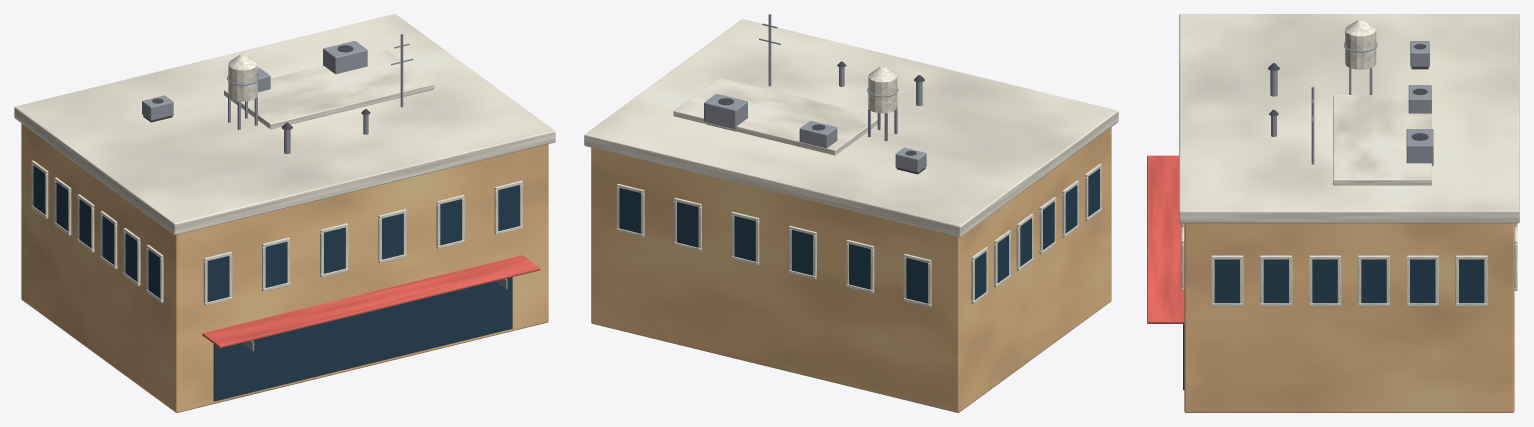
The model's file is bldg_apricot_motel.glb.
3 renders of one model, left to right at view 1: azimuth 30°, elevation 25°; view 2: azimuth 150°, elevation 25°; view 3: azimuth 270°, elevation 25°, orthographic. The views are drawn at different scales.
Visible parts, largest first — view 1: bldg_apricot_motel_body, bldg_apricot_motel_parapet, bldg_apricot_motel_shopfront, bldg_apricot_motel_roof_curb, bldg_apricot_motel_awning, bldg_apricot_motel_ac_2_case, bldg_apricot_motel_upper_back_0_glass, bldg_apricot_motel_upper_back_1_glass, bldg_apricot_motel_tank_a_barrel, bldg_apricot_motel_upper_back_3_glass, bldg_apricot_motel_upper_back_5_glass, bldg_apricot_motel_upper_back_2_glass (+8 smaller); view 2: bldg_apricot_motel_body, bldg_apricot_motel_parapet, bldg_apricot_motel_roof_curb, bldg_apricot_motel_ac_2_case, bldg_apricot_motel_tank_a_barrel, bldg_apricot_motel_upper_front_2_glass, bldg_apricot_motel_upper_front_5_glass, bldg_apricot_motel_upper_front_4_glass, bldg_apricot_motel_upper_front_0_glass, bldg_apricot_motel_upper_front_1_glass, bldg_apricot_motel_upper_front_3_glass, bldg_apricot_motel_ac_1_case (+7 smaller); view 3: bldg_apricot_motel_parapet, bldg_apricot_motel_body, bldg_apricot_motel_roof_curb, bldg_apricot_motel_awning, bldg_apricot_motel_upper_left_2_glass, bldg_apricot_motel_upper_left_3_glass, bldg_apricot_motel_upper_left_0_glass, bldg_apricot_motel_upper_left_1_glass, bldg_apricot_motel_upper_left_4_glass, bldg_apricot_motel_upper_left_5_glass, bldg_apricot_motel_tank_a_barrel, bldg_apricot_motel_ac_2_case (+3 smaller).
Part boxes in pixels (box(x1,y1,x2,y2)): bldg_apricot_motel_body: box(21, 123, 548, 412); bldg_apricot_motel_parapet: box(14, 14, 555, 234); bldg_apricot_motel_shopfront: box(213, 277, 512, 401); bldg_apricot_motel_roof_curb: box(224, 50, 434, 129); bldg_apricot_motel_awning: box(202, 255, 540, 348); bldg_apricot_motel_ac_2_case: box(323, 41, 367, 74); bldg_apricot_motel_upper_back_0_glass: box(207, 256, 229, 301); bldg_apricot_motel_upper_back_1_glass: box(265, 242, 287, 287); bldg_apricot_motel_tank_a_barrel: box(228, 65, 257, 101); bldg_apricot_motel_upper_back_3_glass: box(382, 213, 403, 259); bldg_apricot_motel_upper_back_5_glass: box(498, 185, 519, 231); bldg_apricot_motel_upper_back_2_glass: box(324, 227, 345, 273); bldg_apricot_motel_body: box(591, 127, 1111, 412); bldg_apricot_motel_parapet: box(584, 19, 1118, 237); bldg_apricot_motel_roof_curb: box(673, 77, 880, 155); bldg_apricot_motel_ac_2_case: box(704, 94, 747, 129); bldg_apricot_motel_tank_a_barrel: box(868, 76, 897, 113); bldg_apricot_motel_upper_front_2_glass: box(791, 230, 812, 275); bldg_apricot_motel_upper_front_5_glass: box(619, 188, 640, 233); bldg_apricot_motel_upper_front_4_glass: box(677, 202, 698, 247); bldg_apricot_motel_upper_front_0_glass: box(906, 258, 927, 303); bldg_apricot_motel_upper_front_1_glass: box(849, 244, 870, 289); bldg_apricot_motel_upper_front_3_glass: box(734, 216, 755, 261); bldg_apricot_motel_ac_1_case: box(799, 120, 837, 148); bldg_apricot_motel_parapet: box(1179, 14, 1519, 223); bldg_apricot_motel_body: box(1184, 223, 1514, 412); bldg_apricot_motel_roof_curb: box(1333, 95, 1431, 185); bldg_apricot_motel_awning: box(1147, 155, 1184, 323); bldg_apricot_motel_upper_left_2_glass: box(1312, 259, 1337, 303); bldg_apricot_motel_upper_left_3_glass: box(1361, 259, 1386, 303); bldg_apricot_motel_upper_left_0_glass: box(1214, 259, 1239, 303); bldg_apricot_motel_upper_left_1_glass: box(1263, 259, 1288, 303); bldg_apricot_motel_upper_left_4_glass: box(1410, 259, 1435, 303); bldg_apricot_motel_upper_left_5_glass: box(1459, 259, 1484, 303); bldg_apricot_motel_tank_a_barrel: box(1345, 30, 1376, 69); bldg_apricot_motel_ac_2_case: box(1406, 129, 1433, 165).
Bounding box in the file's own units: 18.42 × 12.23 × 14.68.
6 materials, 6 textured.
